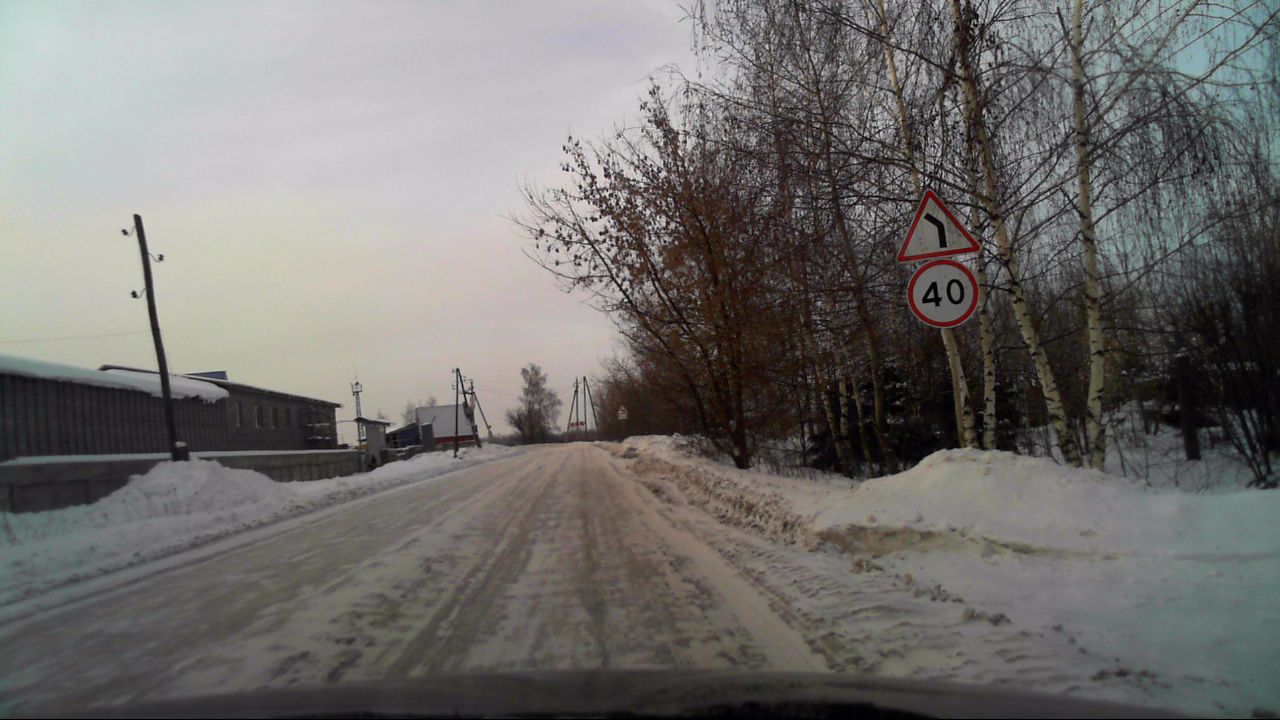speed_warning_40: (906, 262, 979, 329)
